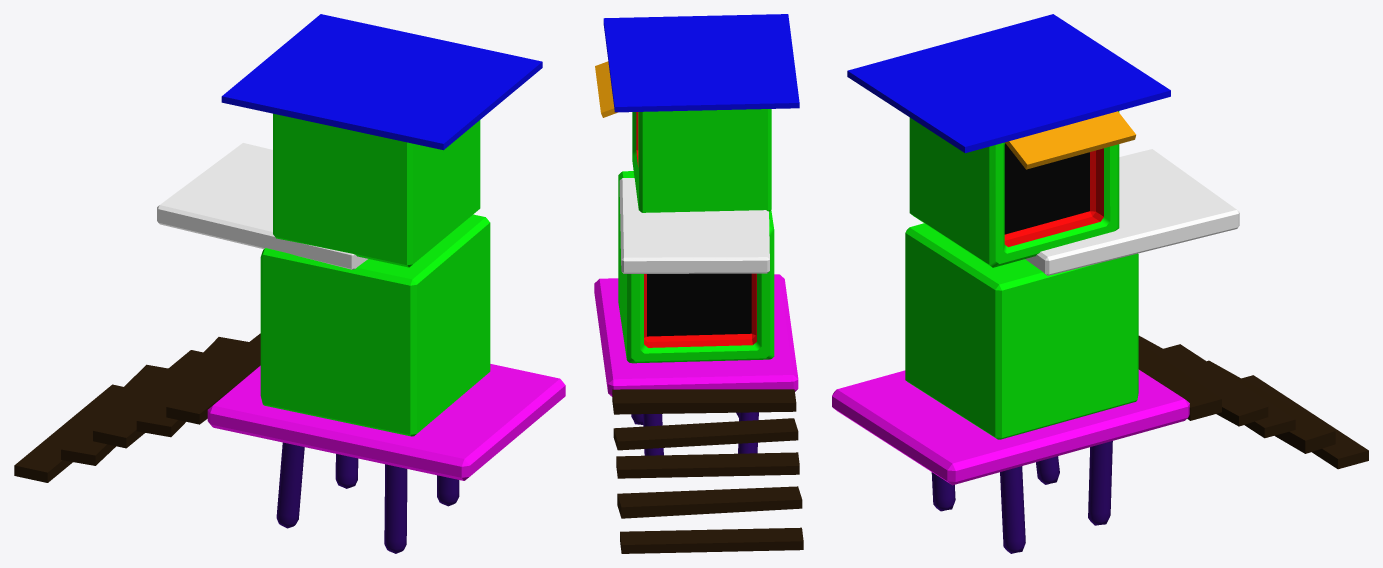
The model's file is GB_Village_House_07.fbx.
3 views of the same model, side by side, from view 1: azimuth 30°, elevation 25°; view 2: azimuth 150°, elevation 25°; view 3: azimuth 270°, elevation 25° (orthographic). The views are drawn at different scales.
Parts seen in each view (by area): view 1: GB_Village_House_07; view 2: GB_Village_House_07; view 3: GB_Village_House_07.
Boxes of the visible parts, x1,y1,x2,y2 form: GB_Village_House_07: [14, 14, 565, 553]; GB_Village_House_07: [594, 14, 803, 553]; GB_Village_House_07: [832, 14, 1368, 553].
Size of the model in its own units: 129 by 138 by 153.
